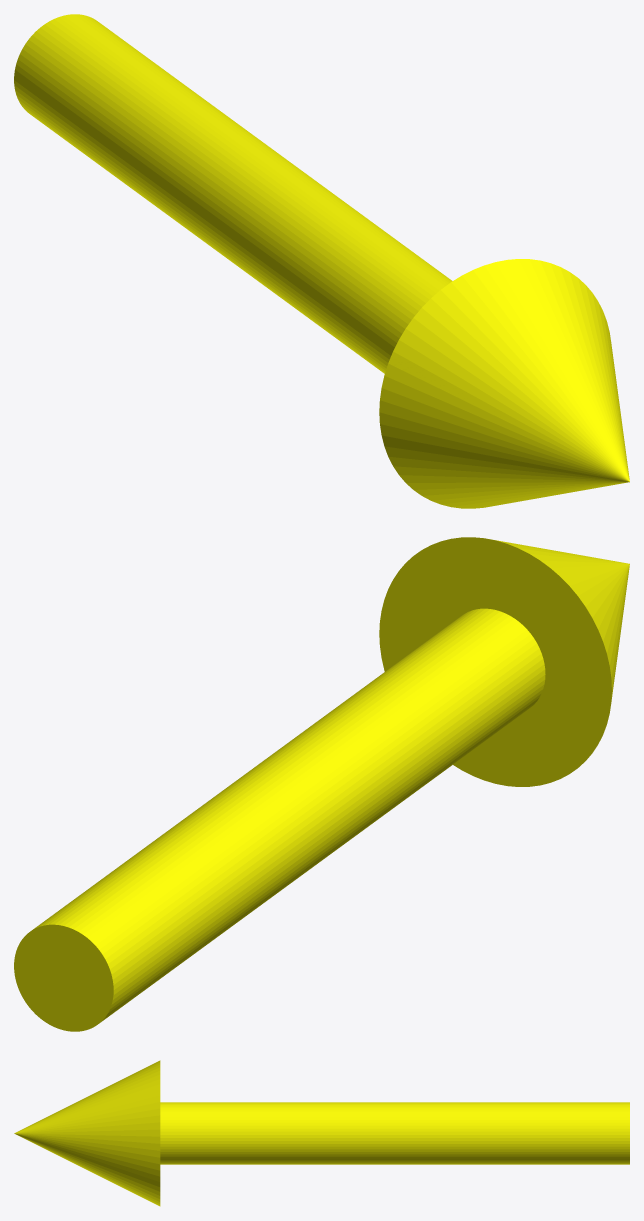
The model's file is arrow.obj.
3 views of the same model, one above another, from view 1: azimuth 30°, elevation 25°; view 2: azimuth 150°, elevation 25°; view 3: azimuth 270°, elevation 25° (orthographic). The views are drawn at different scales.
Parts seen in each view (by area): view 1: obj_0; view 2: obj_0; view 3: obj_0.
Part boxes in pixels (<box>): obj_0: <box>14,14,629,508</box>; obj_0: <box>14,537,629,1031</box>; obj_0: <box>14,1060,629,1206</box>.
Size of the model in its own units: 14 by 14 by 59.
